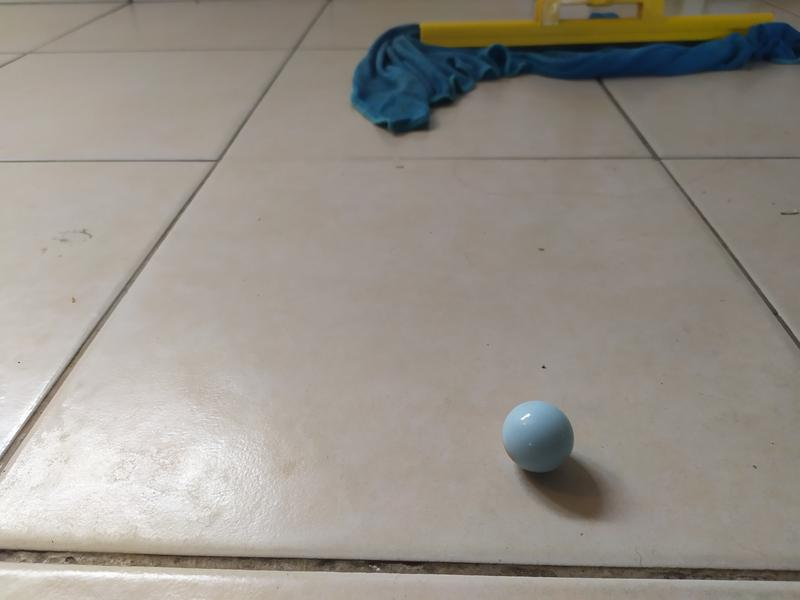Warning: (499, 397, 577, 476)
